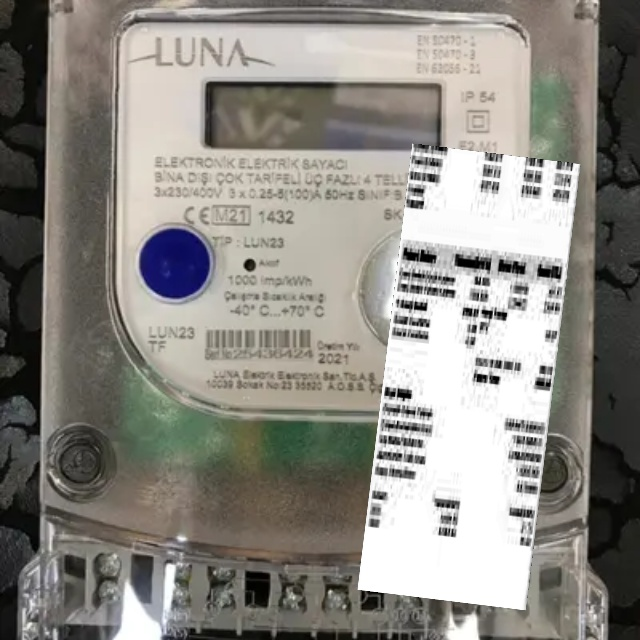electricity-bill: (356, 142, 580, 610)
